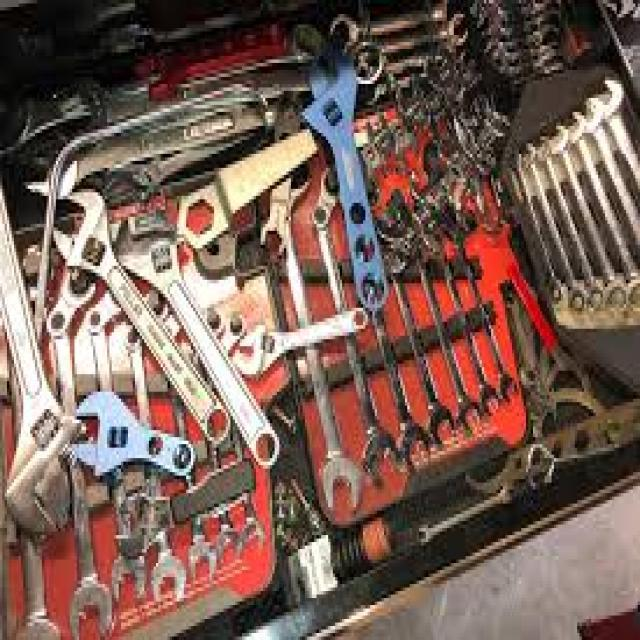wrench: (48, 183, 230, 447), (0, 185, 92, 544), (300, 41, 392, 314), (284, 223, 367, 518), (232, 303, 372, 380), (60, 458, 116, 640), (343, 334, 401, 484), (150, 526, 188, 604)
